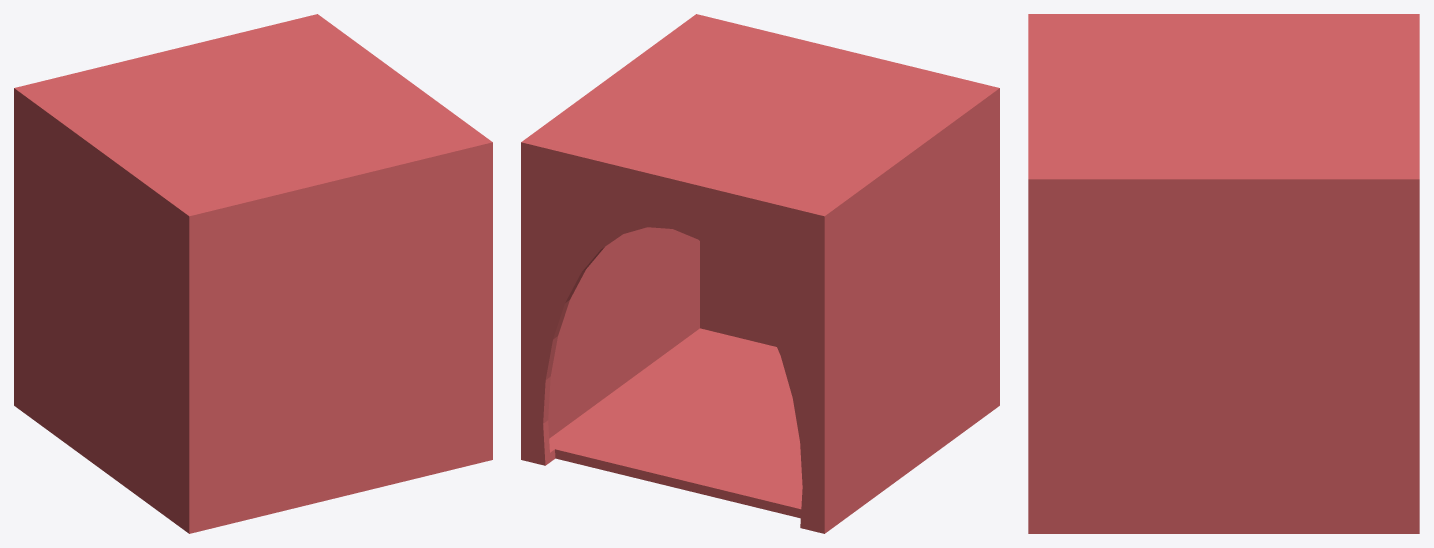
File: catHouse.glb
The picture shows the model from 3 angles, left to right: view 1: azimuth 30°, elevation 25°; view 2: azimuth 150°, elevation 25°; view 3: azimuth 270°, elevation 25°; orthographic projection. The views are drawn at different scales.
Visible parts, largest first — view 1: 立方体; view 2: 立方体; view 3: 立方体.
Part boxes in pixels (x1,y1,x2,y2): 立方体: (14, 14, 492, 533); 立方体: (521, 14, 999, 533); 立方体: (1028, 14, 1419, 533).
Size of the model in its own units: 2 by 2 by 2.
